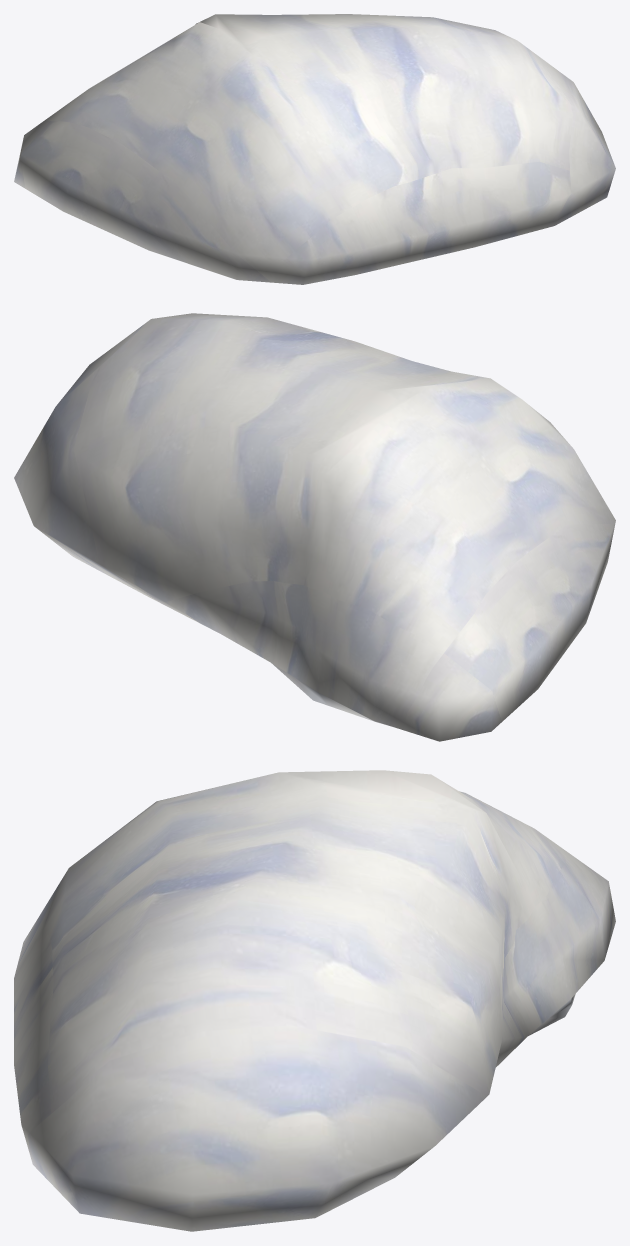
Rendered from snowrockbig.fbx.
The picture shows the model from 3 angles, top to bottom: view 1: azimuth 30°, elevation 25°; view 2: azimuth 150°, elevation 25°; view 3: azimuth 270°, elevation 25°; orthographic projection. The views are drawn at different scales.
Visible parts, largest first — view 1: snowrockbig; view 2: snowrockbig; view 3: snowrockbig.
Boxes of the visible parts, left/top/right/bottom form: snowrockbig: left=14, top=14, right=615, bottom=284; snowrockbig: left=14, top=313, right=615, bottom=741; snowrockbig: left=14, top=770, right=615, bottom=1231.
Size of the model in its own units: 19.38 by 6.97 by 14.86.
Materials: 1 (1 with a texture image).
